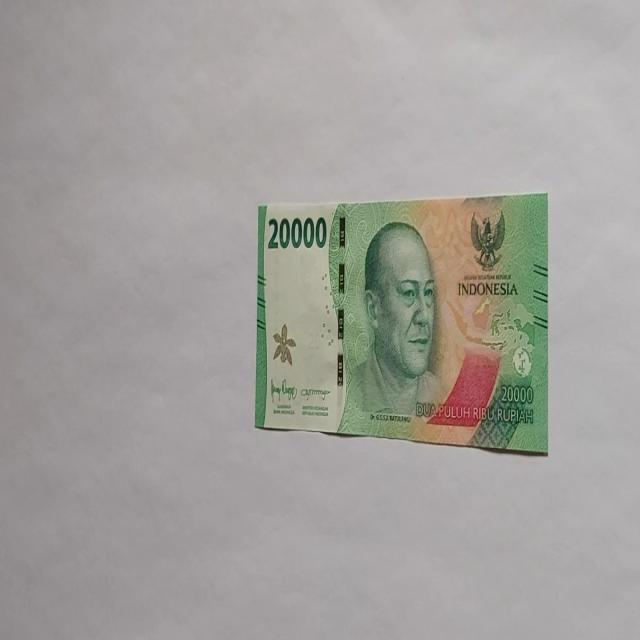dua puluh ribu rupiah: (254, 192, 549, 454), (342, 218, 450, 434)
